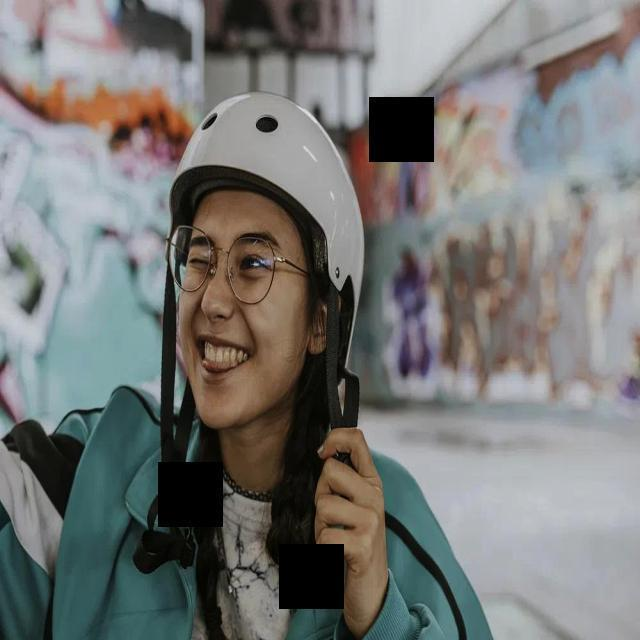helmet: (125, 75, 411, 303)
